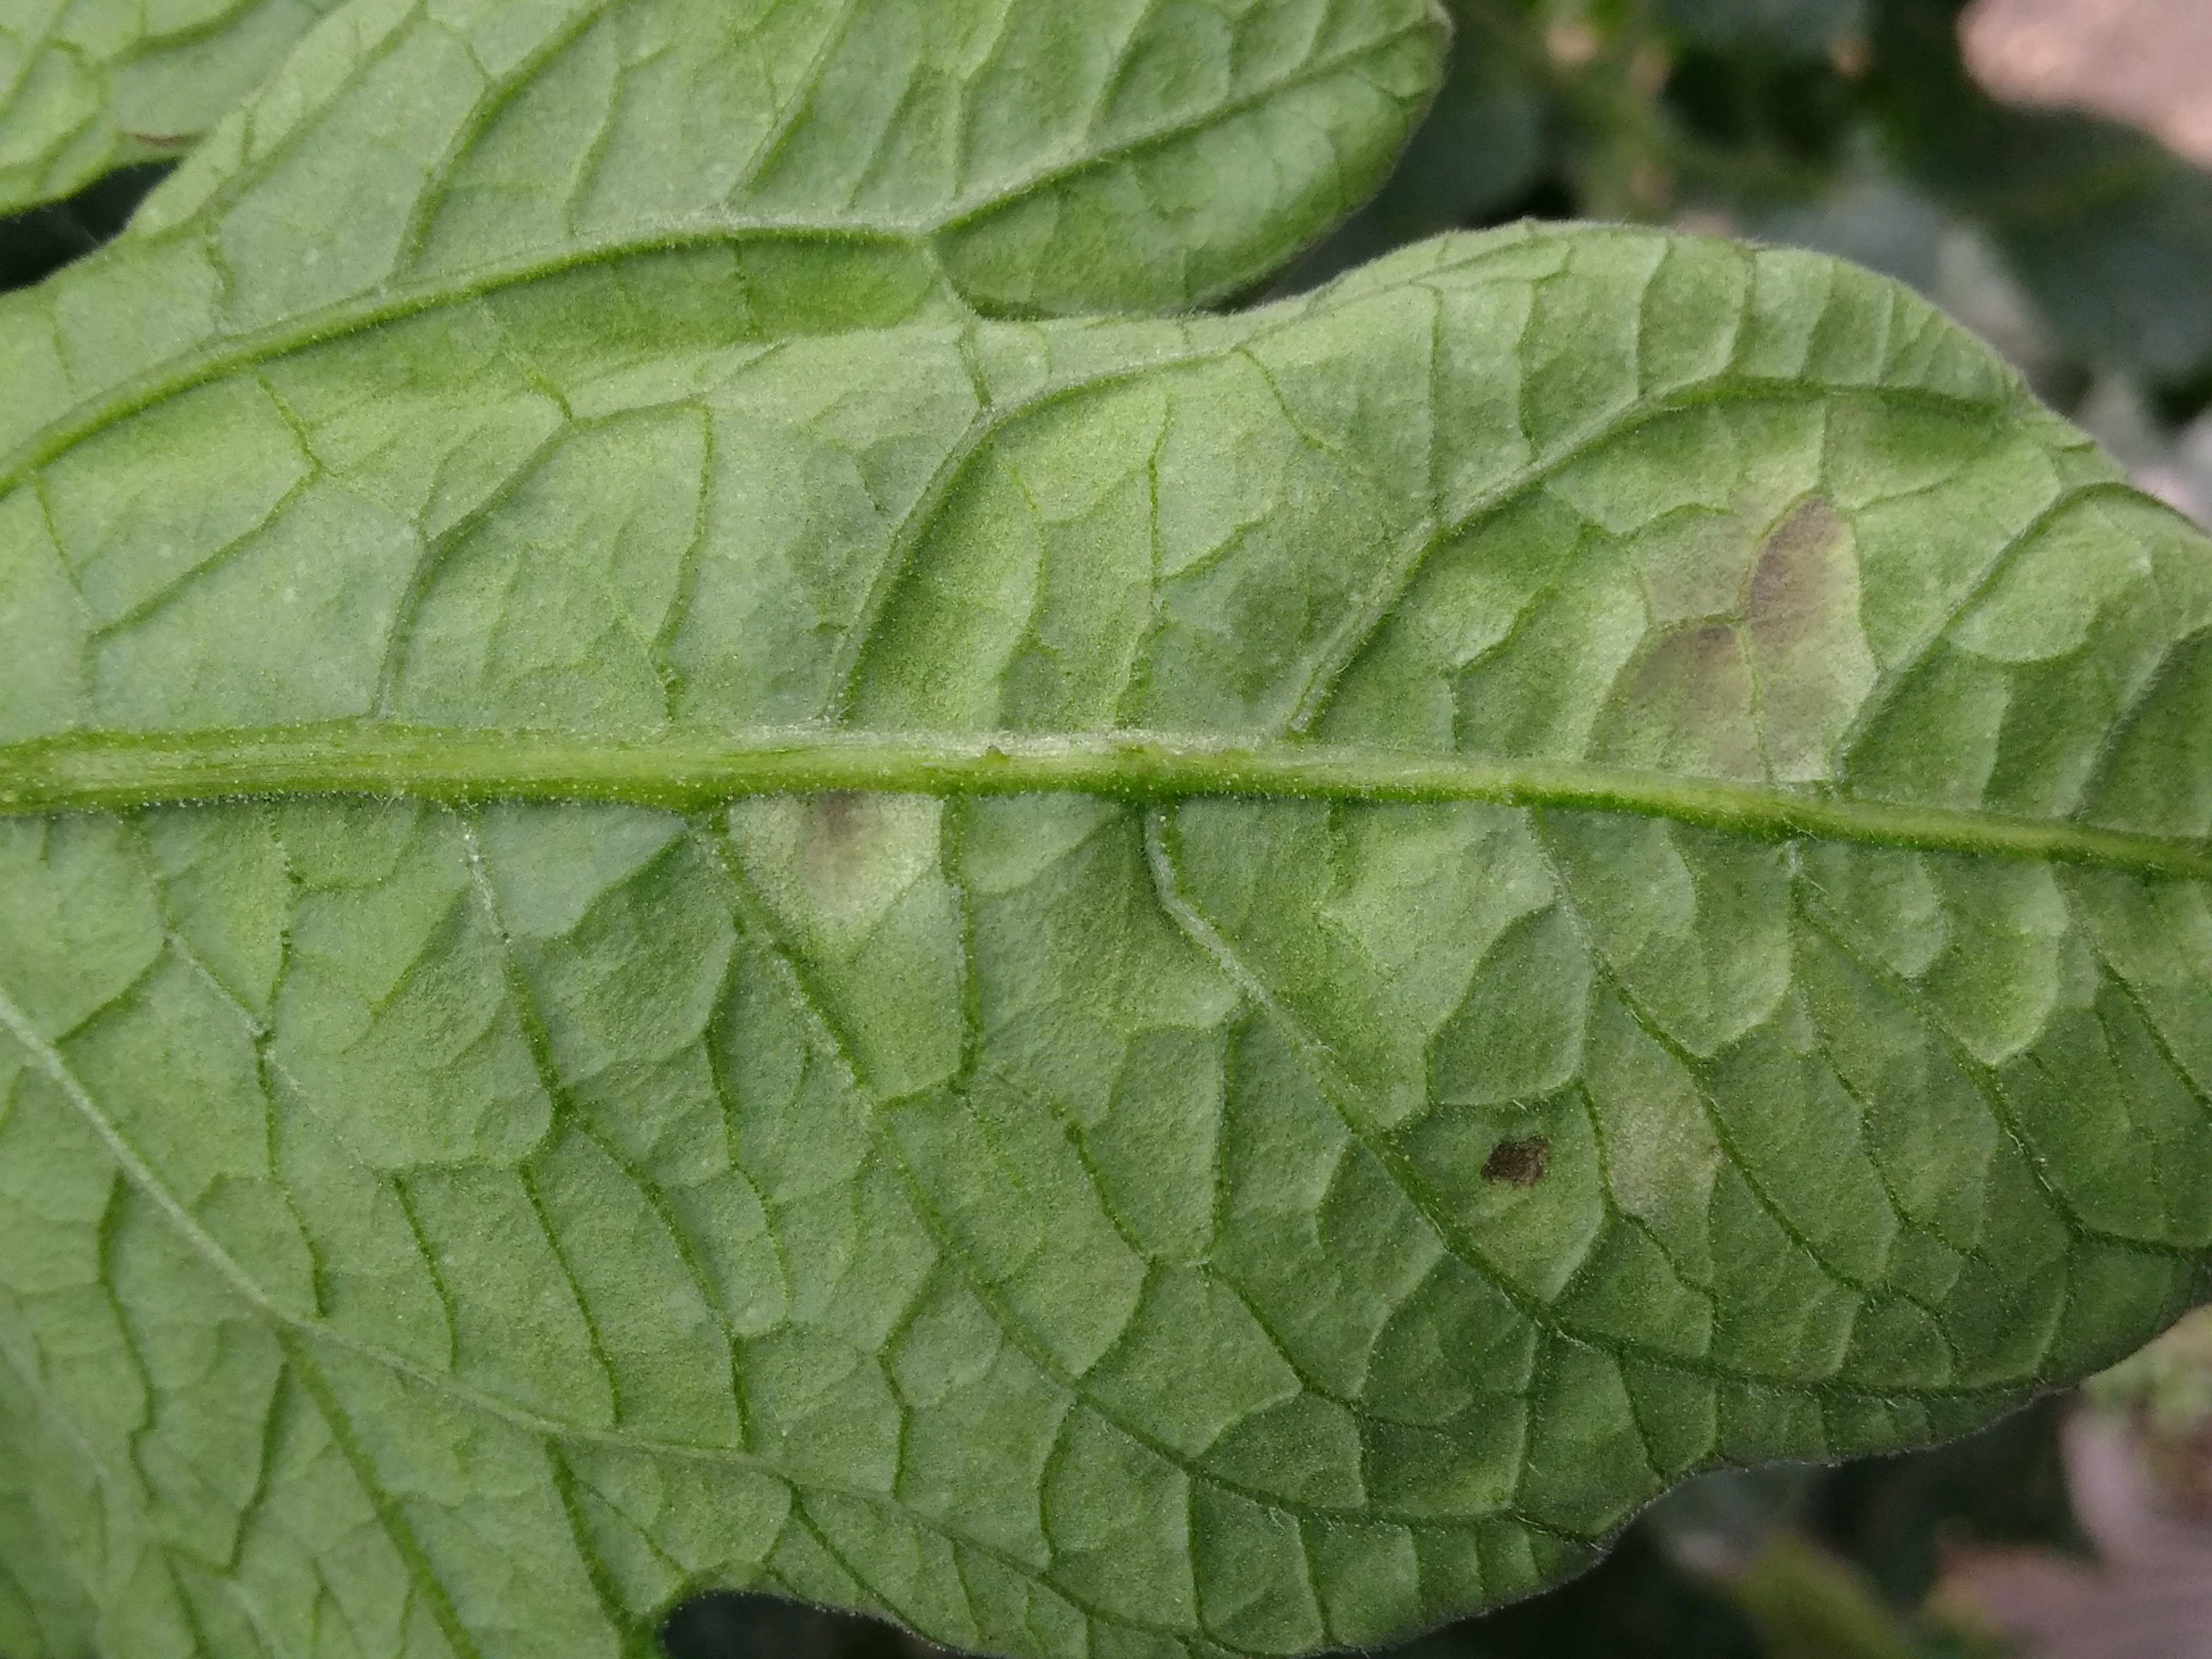negra: (1608, 464, 1912, 786), (780, 777, 890, 870)
